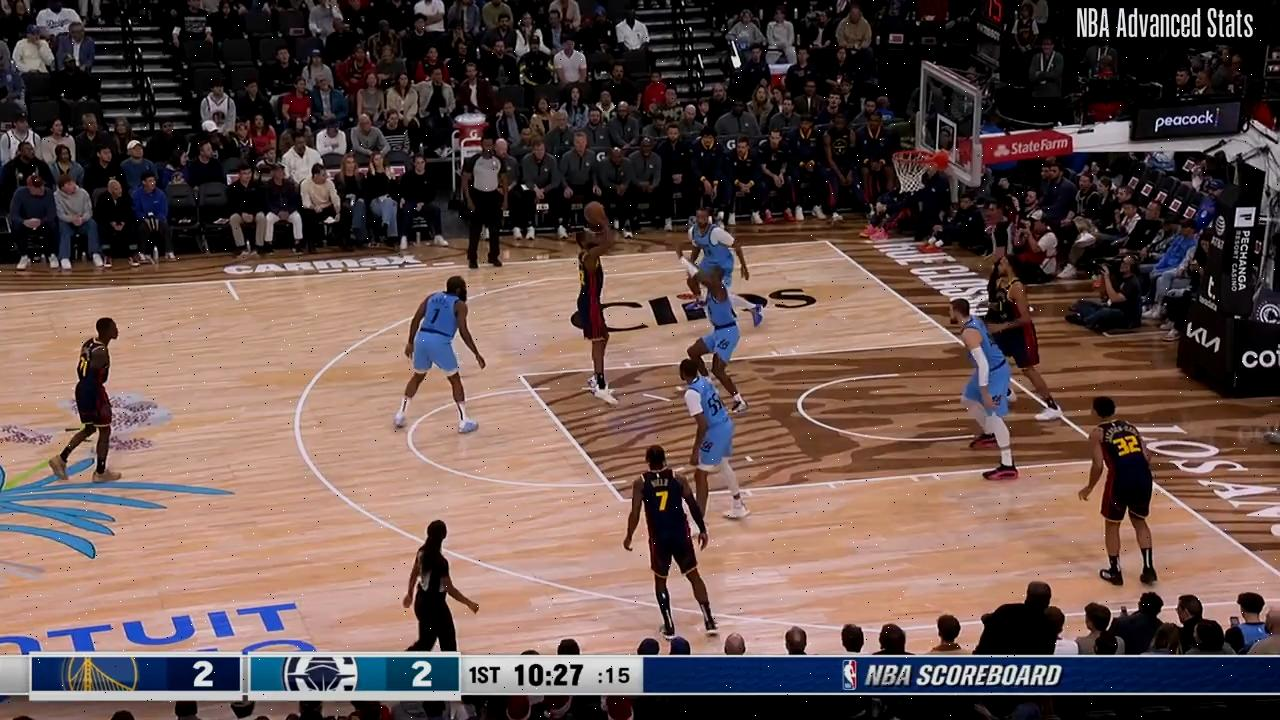basketball: (584, 197, 610, 227)
